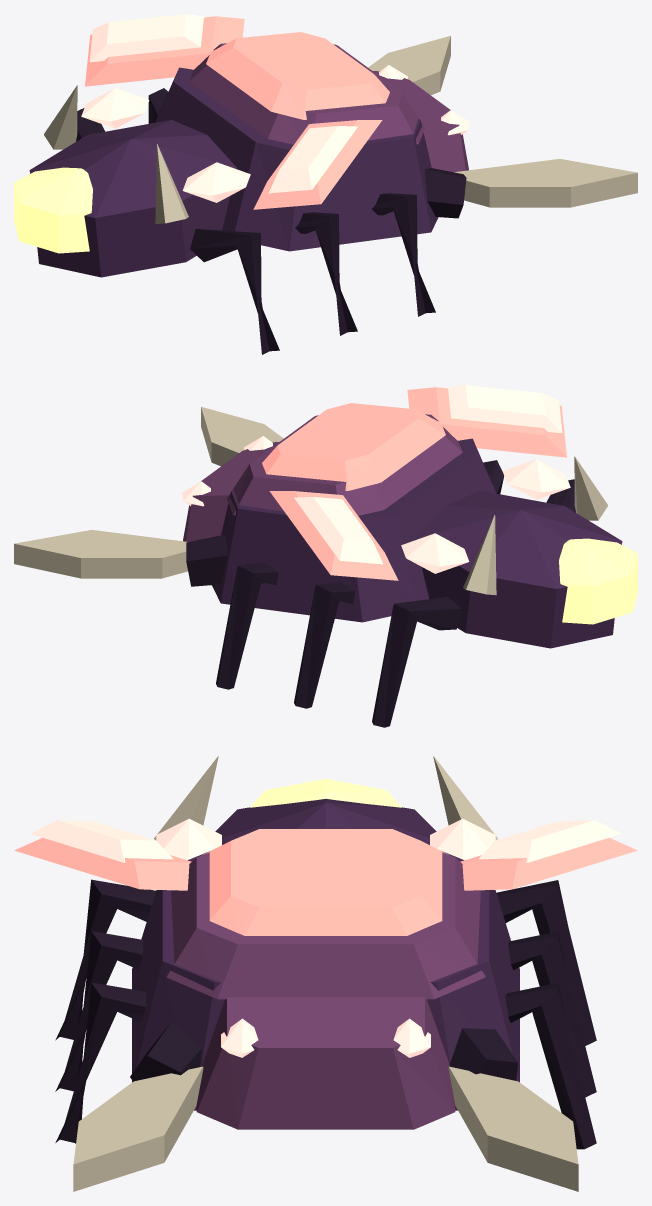
File: forager.glb
3 renders of one model, top to bottom at view 1: azimuth 30°, elevation 25°; view 2: azimuth 150°, elevation 25°; view 3: azimuth 270°, elevation 25°, orthographic. The views are drawn at different scales.
Parts seen in each view (by area): view 1: Surf_chit, Surf_TEAM, Surf_bone, Surf_GLOW, Surf_dark, Surf_warm, Surf_acid; view 2: Surf_chit, Surf_TEAM, Surf_dark, Surf_bone, Surf_GLOW, Surf_warm, Surf_acid; view 3: Surf_warm, Surf_TEAM, Surf_dark, Surf_bone, Surf_chit, Surf_GLOW, Surf_acid.
Part boxes in pixels (x1=…): Surf_chit: x1=29, y1=67, x2=438, y2=277; Surf_TEAM: x1=85, y1=16, x2=389, y2=209; Surf_bone: x1=44, y1=36, x2=637, y2=224; Surf_GLOW: x1=81, y1=14, x2=469, y2=202; Surf_dark: x1=76, y1=88, x2=466, y2=354; Surf_warm: x1=189, y1=43, x2=468, y2=172; Surf_acid: x1=14, y1=167, x2=92, y2=253; Surf_chit: x1=212, y1=438, x2=622, y2=648; Surf_TEAM: x1=262, y1=387, x2=566, y2=580; Surf_dark: x1=186, y1=460, x2=575, y2=727; Surf_bone: x1=14, y1=407, x2=607, y2=595; Surf_GLOW: x1=182, y1=385, x2=570, y2=573; Surf_warm: x1=183, y1=414, x2=462, y2=541; Surf_acid: x1=559, y1=538, x2=637, y2=624; Surf_warm: x1=166, y1=852, x2=485, y2=1129; Surf_TEAM: x1=14, y1=829, x2=637, y2=935; Surf_dark: x1=55, y1=879, x2=596, y2=1149; Surf_bone: x1=73, y1=756, x2=578, y2=1191; Surf_chit: x1=132, y1=799, x2=519, y2=1110; Surf_GLOW: x1=30, y1=818, x2=621, y2=1057; Surf_acid: x1=250, y1=778, x2=401, y2=807.
Size of the model in its own units: 2.15 by 0.7836 by 1.64.
